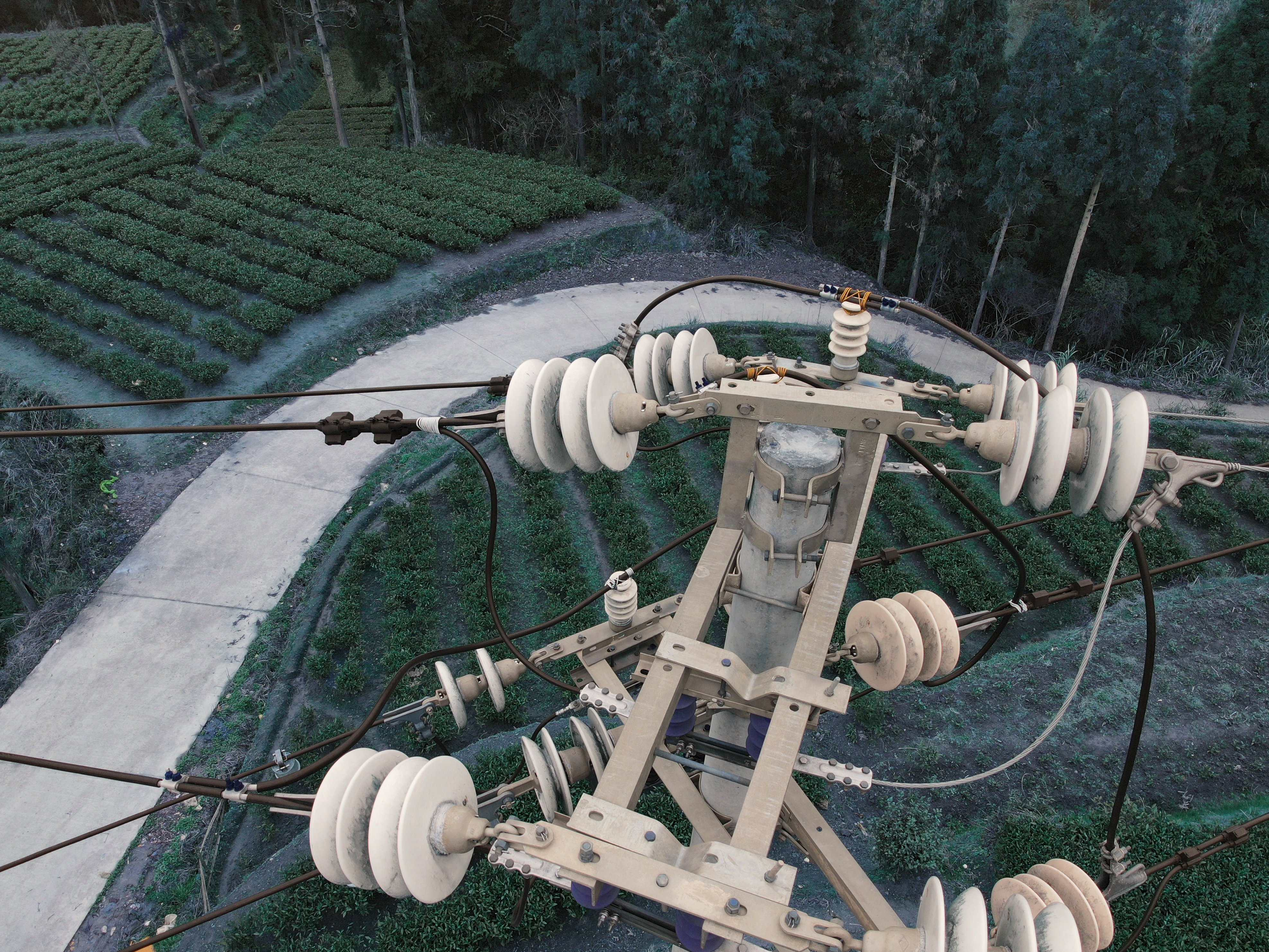severe_soiling_no_discharge_whole: (304, 743, 493, 905), (968, 375, 1149, 524), (502, 354, 661, 475), (867, 872, 1083, 946), (843, 585, 963, 691), (512, 707, 614, 814), (995, 856, 1115, 946), (433, 646, 524, 727), (630, 326, 732, 396), (967, 358, 1079, 417), (827, 302, 872, 380), (603, 572, 639, 632)
